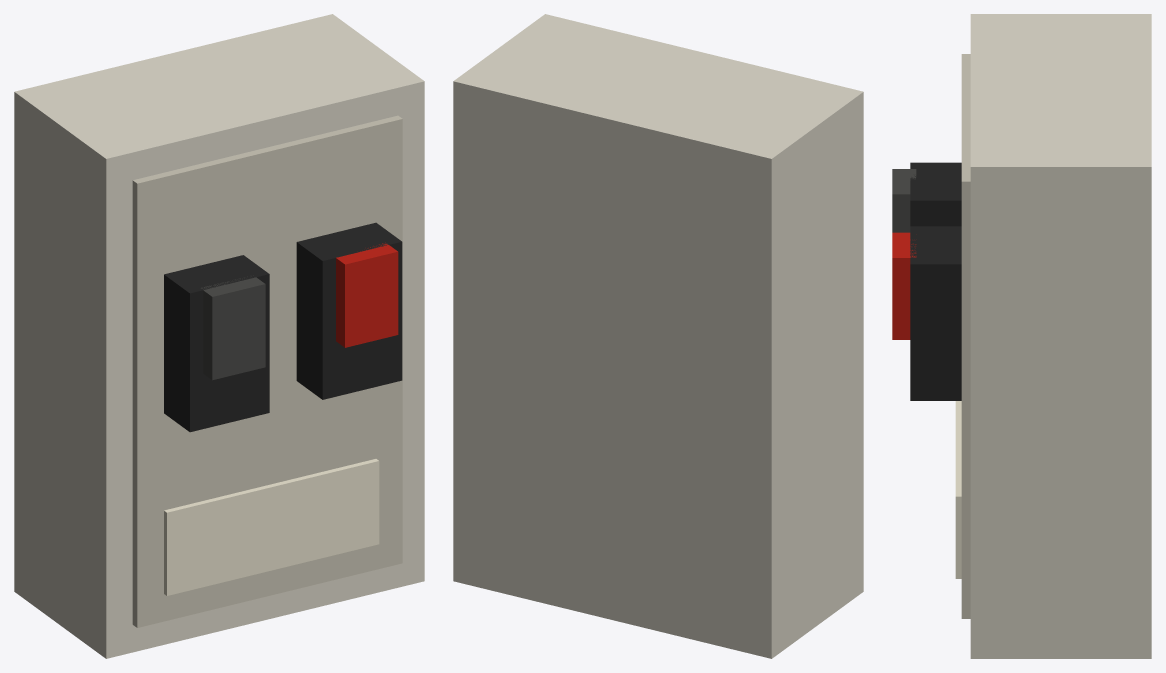
File: CauDao_Aptomat.glb
The picture shows the model from 3 angles, left to right: view 1: azimuth 30°, elevation 25°; view 2: azimuth 150°, elevation 25°; view 3: azimuth 270°, elevation 25°; orthographic projection.
Parts seen in each view (by area): view 1: CauDao_Aptomat, CauDao_Aptomat_1, CauDao_Aptomat_2, CauDao_Aptomat_5, CauDao_Aptomat_3, CauDao_Aptomat_4; view 2: CauDao_Aptomat; view 3: CauDao_Aptomat, CauDao_Aptomat_2, CauDao_Aptomat_1, CauDao_Aptomat_4, CauDao_Aptomat_3, CauDao_Aptomat_5.
Boxes of the visible parts, x1,y1,x2,y2 form: CauDao_Aptomat: (14, 14, 424, 658); CauDao_Aptomat_1: (132, 115, 402, 627); CauDao_Aptomat_2: (164, 222, 402, 432); CauDao_Aptomat_5: (164, 459, 379, 595); CauDao_Aptomat_3: (201, 275, 265, 380); CauDao_Aptomat_4: (336, 242, 398, 347); CauDao_Aptomat: (453, 14, 863, 658); CauDao_Aptomat: (970, 14, 1151, 658); CauDao_Aptomat_2: (910, 162, 961, 400); CauDao_Aptomat_1: (961, 54, 970, 618); CauDao_Aptomat_4: (892, 232, 916, 339); CauDao_Aptomat_3: (892, 169, 916, 232); CauDao_Aptomat_5: (955, 401, 961, 578).
Size of the model in its own units: 0.12 by 0.18 by 0.086.
